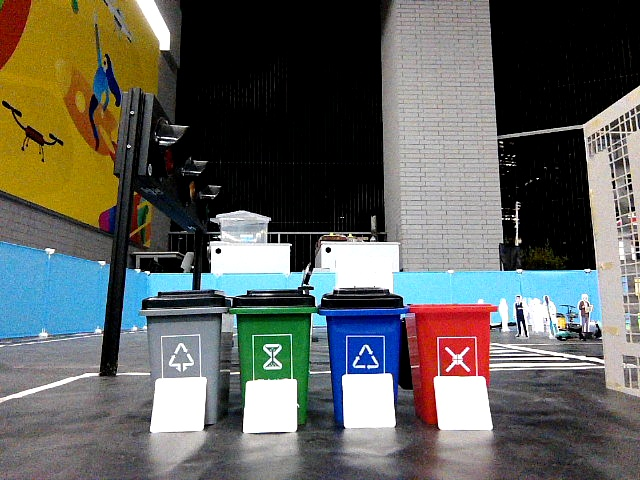blue_close: (324, 287, 396, 370)
green_close: (237, 290, 307, 376)
grey_close: (147, 291, 220, 373)
red_open: (414, 303, 489, 372)
